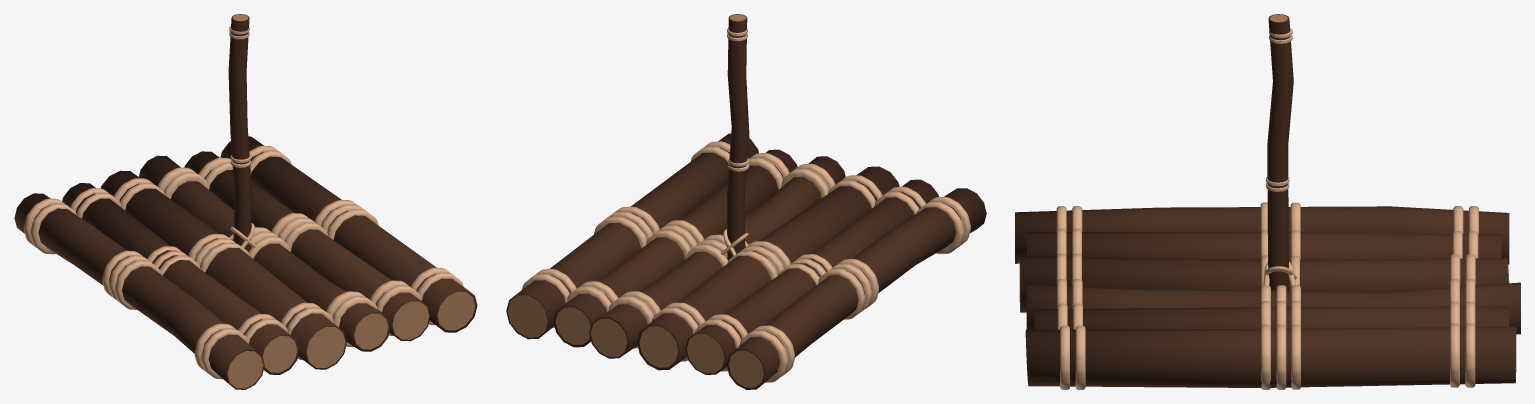
Rendered from Base_Mast1_Raft.fbx.
3 renders of one model, left to right at view 1: azimuth 30°, elevation 25°; view 2: azimuth 150°, elevation 25°; view 3: azimuth 270°, elevation 25°, orthographic. The views are drawn at different scales.
Parts seen in each view (by area): view 1: Base, Mast 1; view 2: Base, Mast 1; view 3: Base, Mast 1.
Part boxes in pixels (x1=…): Base: x1=14, y1=136, x2=477, y2=389; Mast 1: x1=228, y1=14, x2=256, y2=251; Base: x1=506, y1=133, x2=986, y2=389; Mast 1: x1=721, y1=14, x2=749, y2=260; Base: x1=1015, y1=202, x2=1520, y2=389; Mast 1: x1=1263, y1=14, x2=1296, y2=290.
Size of the model in its own units: 797 by 776 by 1141.
